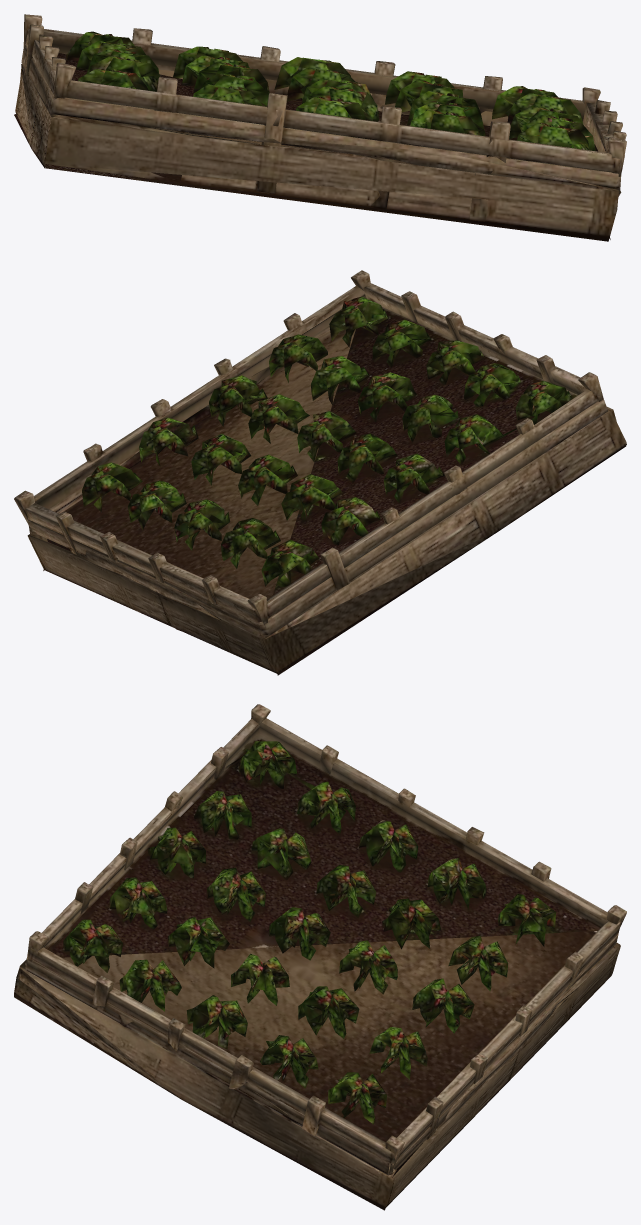
The model's file is tripo_convert_3b96b351-74a4-4e27-b5bc-3d4d7ae70155.fbx.
3 renders of one model, top to bottom at view 1: azimuth 30°, elevation 25°; view 2: azimuth 150°, elevation 25°; view 3: azimuth 270°, elevation 25°, orthographic. The views are drawn at different scales.
Visible parts, largest first — view 1: tripo_node_3b96b351; view 2: tripo_node_3b96b351; view 3: tripo_node_3b96b351.
Part boxes in pixels (left/top/right/bottom): tripo_node_3b96b351: left=14, top=14, right=626, bottom=241; tripo_node_3b96b351: left=14, top=270, right=626, bottom=675; tripo_node_3b96b351: left=14, top=704, right=626, bottom=1210.
Size of the model in its own units: 0.998 by 0.4824 by 0.998.
Materials: 1 (1 with a texture image).
